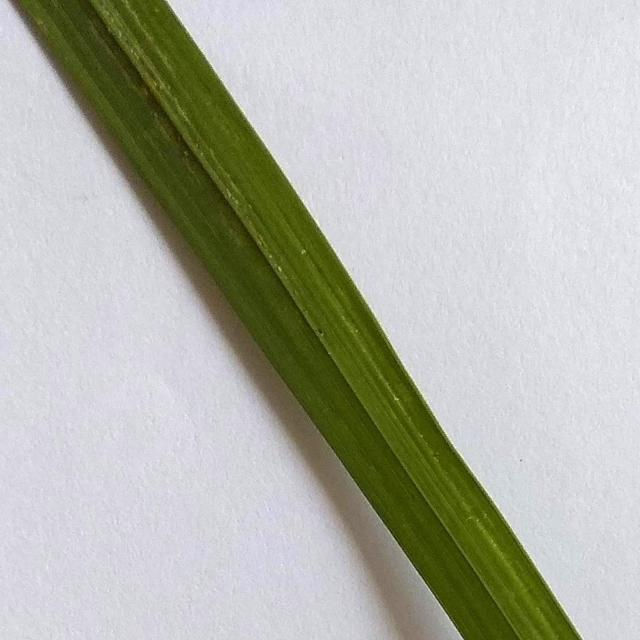healthy: (6, 0, 586, 640)
